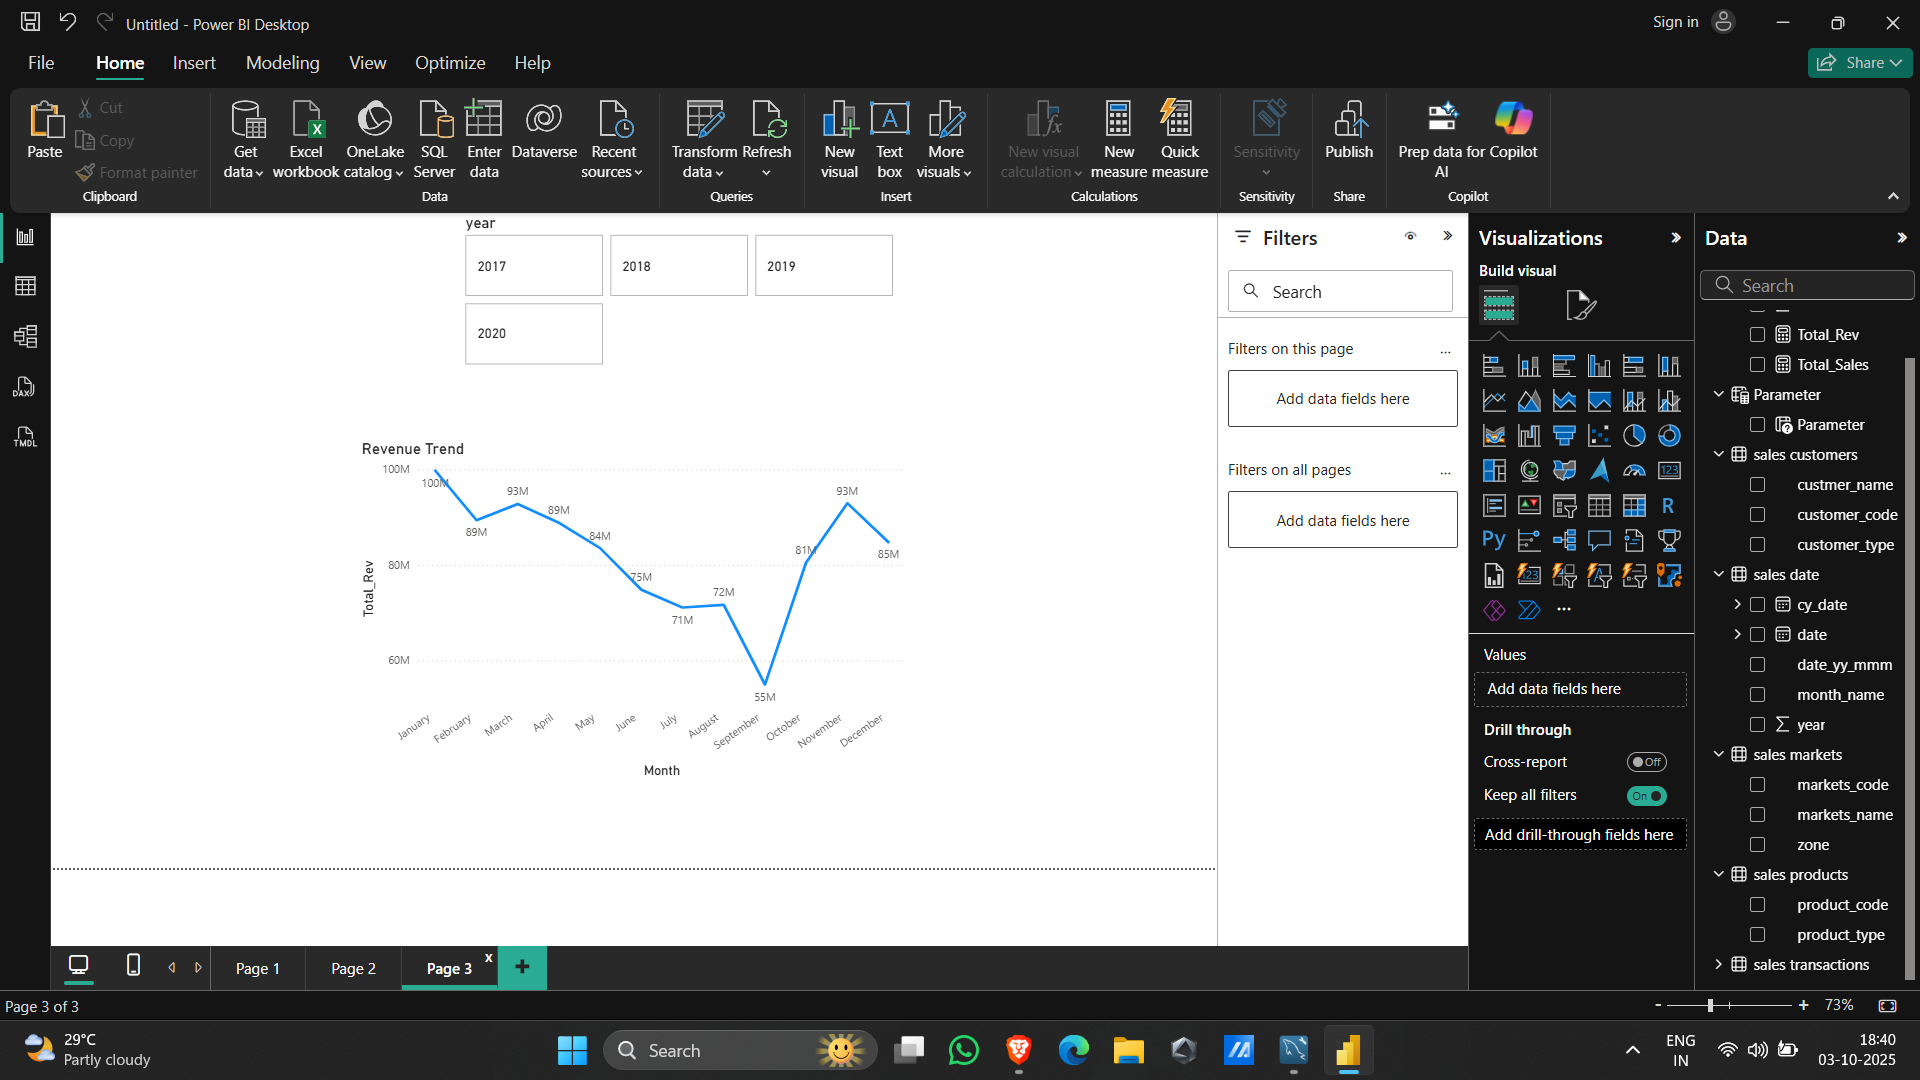

The page's visual inventory and layout, read from the dashboard file:
{"tool":"powerbi","page":{"name":"Page 3","canvas":[1280,720],"ordinal":2},"visuals":[{"type":"advancedSlicerVisual","fields":{"Values":["sales date.year"]},"box":[450.1,0,480.3,171.5],"z":0},{"type":"lineChart","title":"Revenue Trend","fields":{"Y":["_Measurs.Total_Rev"],"Category":["sales date.cy_date.Variation.Date Hierarchy.Month"]},"box":[336.2,248.4,606.5,377.4],"z":1}]}

Visuals, with their boxes on the page's 1280x720 design canvas (x1, y1, x2, y2). These are canvas units, not pixel positions in the 1920x1080 screenshot, which may show the page scaled, cropped or inside an application window:
advancedSlicerVisual - sales date.year: bbox(450, 0, 930, 172)
"Revenue Trend" lineChart: bbox(336, 248, 943, 626)
